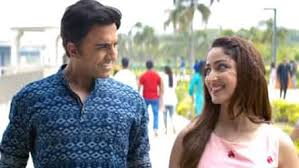Caution: (1, 1, 298, 168)
